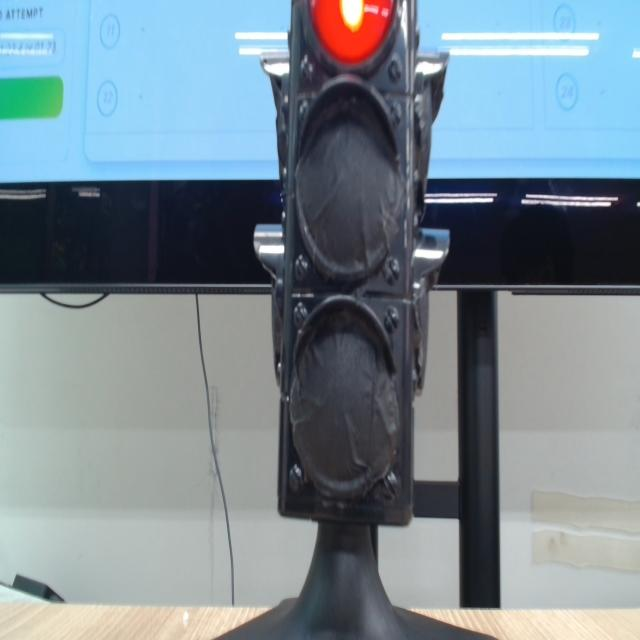red_light: (310, 0, 395, 65)
